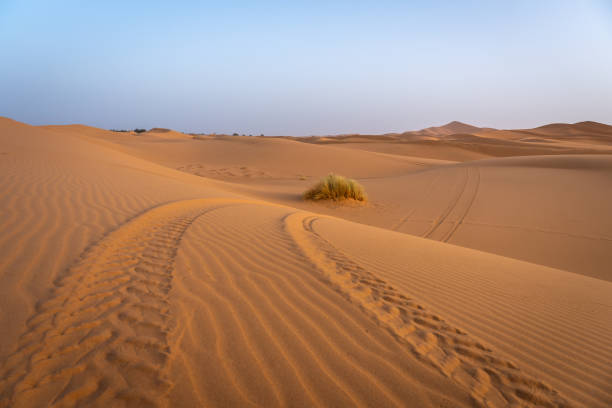vehicle_track: (285, 212, 569, 406), (0, 199, 251, 406), (0, 199, 231, 406), (422, 167, 468, 238), (464, 220, 611, 241), (441, 167, 479, 241), (419, 171, 441, 203)
